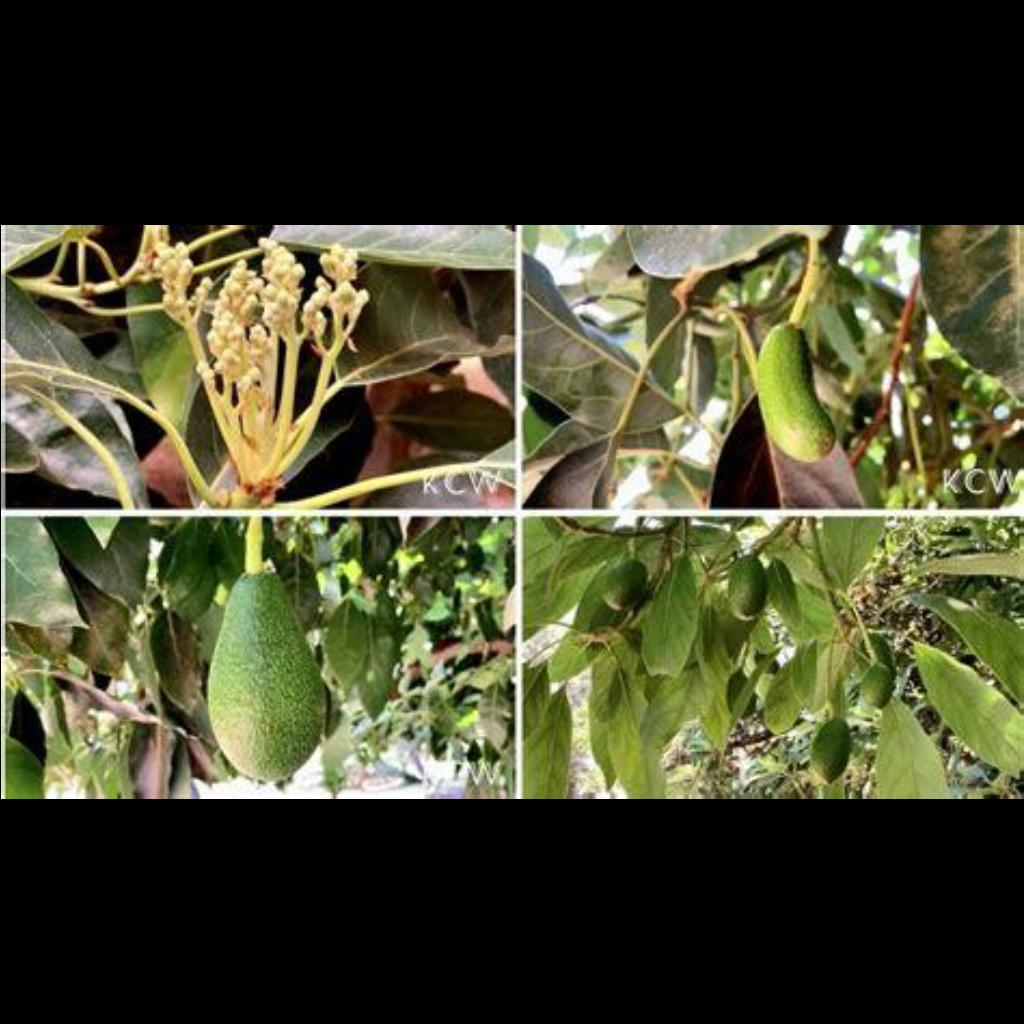Healthy: (204, 570, 324, 792), (746, 316, 844, 468), (813, 717, 863, 795), (766, 676, 812, 736)
